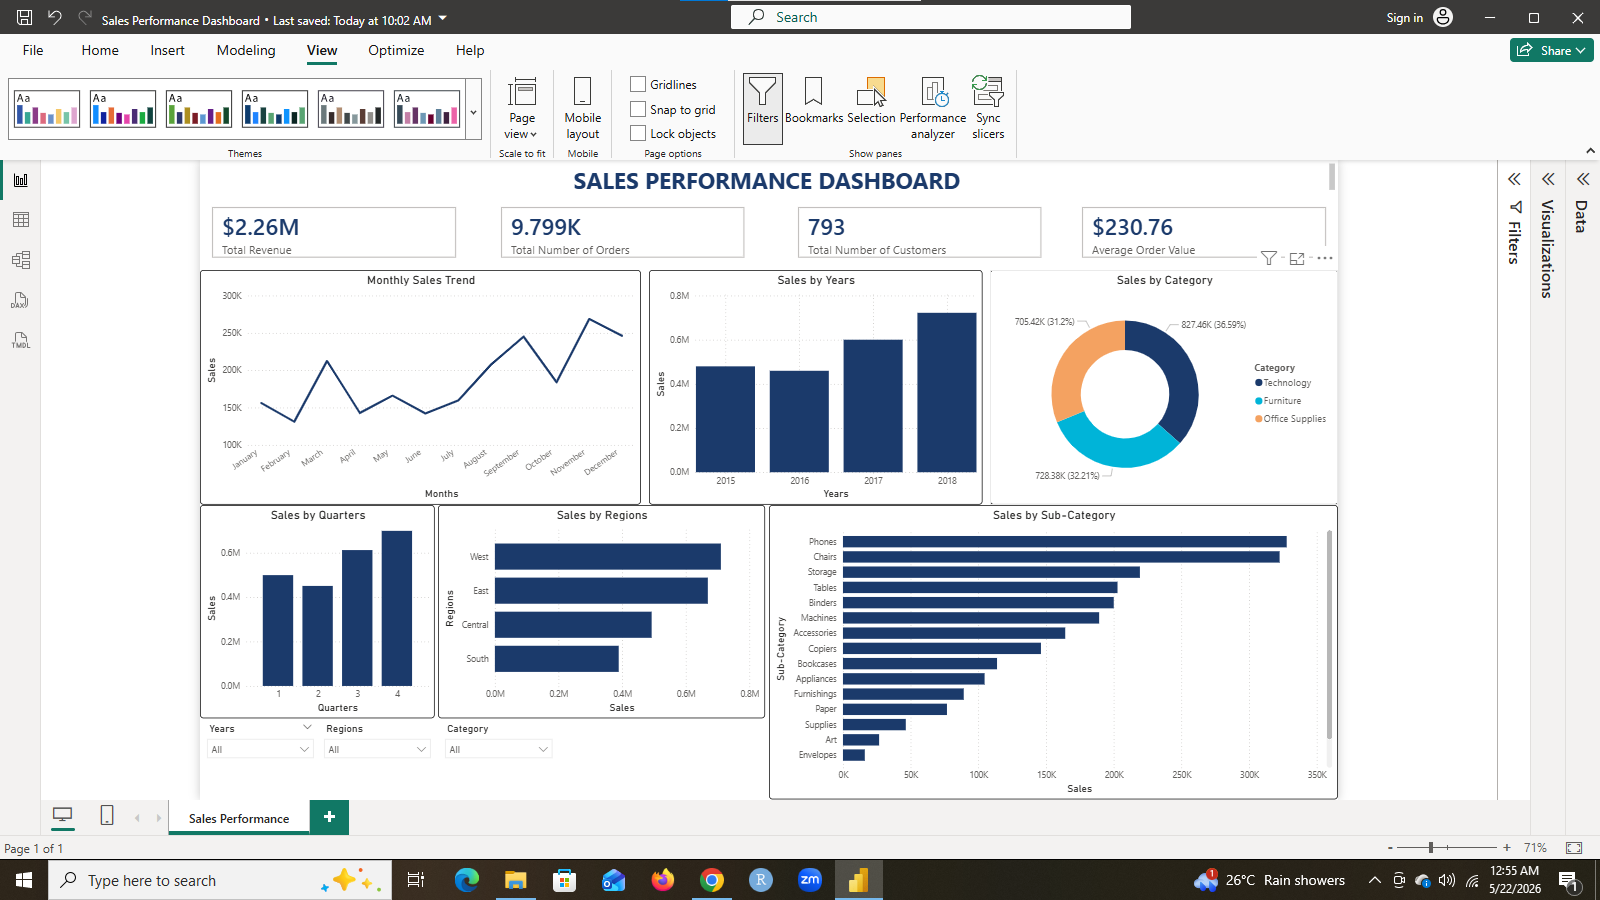

The page's visual inventory and layout, read from the dashboard file:
{"tool":"powerbi","page":{"name":"Sales Performance","canvas":[1600,900],"ordinal":0},"visuals":[{"type":"textbox","box":[0,0,1600.6,49.8],"z":0},{"type":"cardVisual","fields":{"Data":["Sum(KPIs.Total Revenue)"]},"box":[0,49.8,377.4,105.4],"z":1000},{"type":"cardVisual","fields":{"Data":["Sum(KPIs.Total Number of Orders)"]},"box":[406.4,49.2,376.9,105.5],"z":2000},{"type":"cardVisual","fields":{"Data":["Sum(KPIs.Total Number of Customers)"]},"box":[824.1,49.2,376.9,105.5],"z":3000},{"type":"cardVisual","fields":{"Data":["Sum(KPIs.Average Order Value)"]},"box":[1223.3,49.8,377.4,105.4],"z":4000},{"type":"lineChart","title":"Monthly Sales Trend","fields":{"Category":["Month Sales.Months"],"Y":["Sum(Month Sales.Sales)"]},"box":[0,155.2,620,330],"z":5000},{"type":"clusteredBarChart","title":"Sales by Regions","fields":{"Category":["Region Sales.Regions"],"Y":["Sum(Region Sales.Sales)"]},"box":[334.7,485.6,460,300.5],"z":6000},{"type":"donutChart","title":"Sales by Category","fields":{"Category":["Category Sales.Category"],"Y":["Sum(Category Sales.Sum of Sales)"]},"box":[1110.8,155.2,489.9,330.4],"z":7000},{"type":"clusteredBarChart","title":"Sales by Sub-Category","fields":{"Category":["SubCategory Sales.Sub-Category"],"Y":["Sum(SubCategory Sales.Sum of Sales)"]},"box":[800.3,485.6,800.3,414.4],"z":8000},{"type":"clusteredColumnChart","title":"Sales by Years","fields":{"Category":["Year Sales.Row Labels"],"Y":["Sum(Year Sales.Sum of Sales)"]},"box":[630.9,155.2,468.5,330.4],"z":9000},{"type":"clusteredColumnChart","title":"Sales by Quarters","fields":{"Category":["Quarter Sales.Row Labels"],"Y":["Sum(Quarter Sales.Sum of Sales)"]},"box":[0,485.6,330.4,300.5],"z":10000},{"type":"slicer","fields":{"Values":["Year Sales.Years"]},"box":[0,786.1,170,114],"z":11000},{"type":"slicer","fields":{"Values":["Region Sales.Regions"]},"box":[165.2,786.1,170,114],"z":12000},{"type":"slicer","fields":{"Values":["Category Sales.Category"]},"box":[334.7,786.1,170.9,114],"z":13000}]}

Visuals, with their boxes on the page's 1600x900 design canvas (x1, y1, x2, y2). These are canvas units, not pixel positions in the 1600x900 screenshot, which may show the page scaled, cropped or inside an application window:
textbox: crop(0, 0, 1601, 50)
cardVisual - Sum(KPIs.Total Revenue): crop(0, 50, 377, 155)
cardVisual - Sum(KPIs.Total Number of Orders): crop(406, 49, 783, 155)
cardVisual - Sum(KPIs.Total Number of Customers): crop(824, 49, 1201, 155)
cardVisual - Sum(KPIs.Average Order Value): crop(1223, 50, 1601, 155)
"Monthly Sales Trend" lineChart: crop(0, 155, 620, 485)
"Sales by Regions" clusteredBarChart: crop(335, 486, 795, 786)
"Sales by Category" donutChart: crop(1111, 155, 1601, 486)
"Sales by Sub-Category" clusteredBarChart: crop(800, 486, 1601, 900)
"Sales by Years" clusteredColumnChart: crop(631, 155, 1099, 486)
"Sales by Quarters" clusteredColumnChart: crop(0, 486, 330, 786)
slicer - Year Sales.Years: crop(0, 786, 170, 900)
slicer - Region Sales.Regions: crop(165, 786, 335, 900)
slicer - Category Sales.Category: crop(335, 786, 506, 900)
